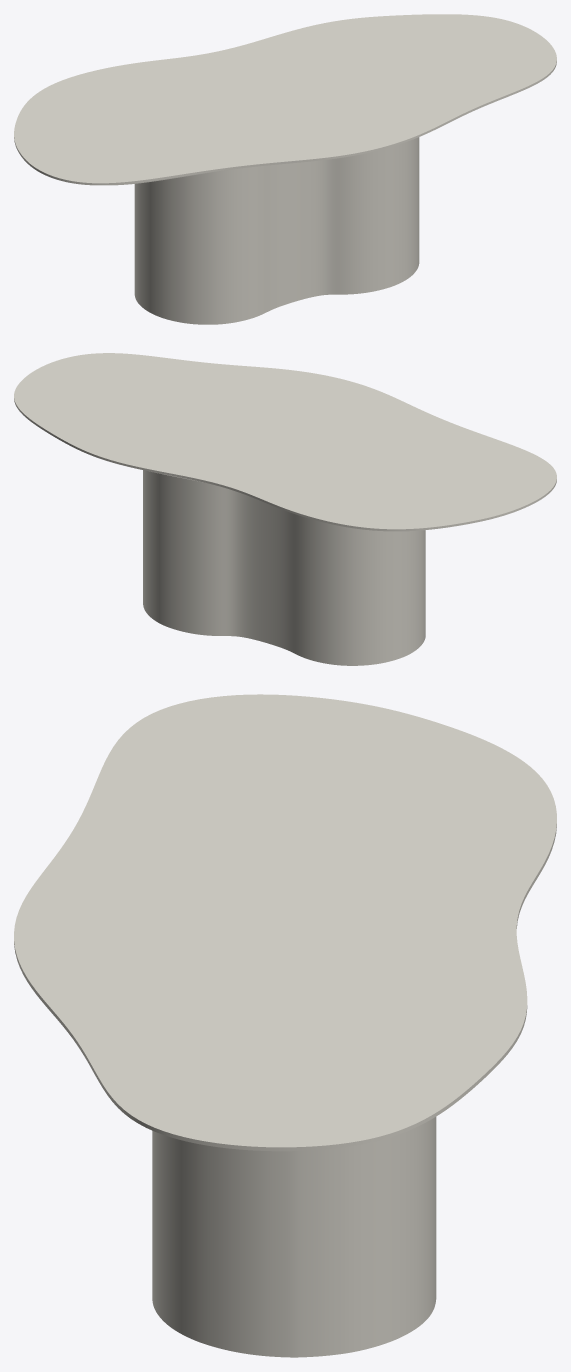
The model's file is pale_toplast_facet_riverwave.glb.
The picture shows the model from 3 angles, top to bottom: view 1: azimuth 30°, elevation 25°; view 2: azimuth 150°, elevation 25°; view 3: azimuth 270°, elevation 25°; orthographic projection. The views are drawn at different scales.
Visible parts, largest first — view 1: facet_toplast, riverwave; view 2: facet_toplast, riverwave; view 3: facet_toplast, riverwave.
Boxes of the visible parts, x1,y1,x2,y2 form: facet_toplast: (14, 14, 556, 185); riverwave: (134, 137, 419, 324); facet_toplast: (14, 353, 556, 531); riverwave: (143, 470, 425, 665); facet_toplast: (14, 694, 556, 1151); riverwave: (152, 1117, 436, 1357).
Bounding box in the file's own units: 7.5 × 2.5 × 3.8.
1 material, 1 textured.
